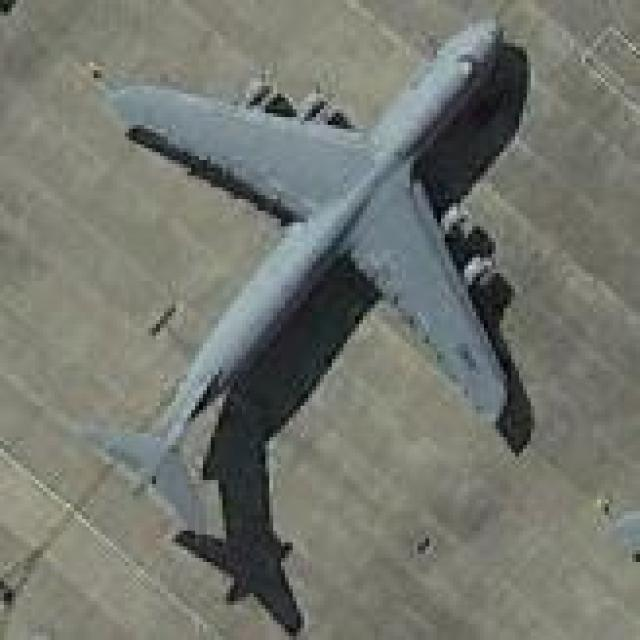C-5_TopDown: (79, 9, 539, 640)
